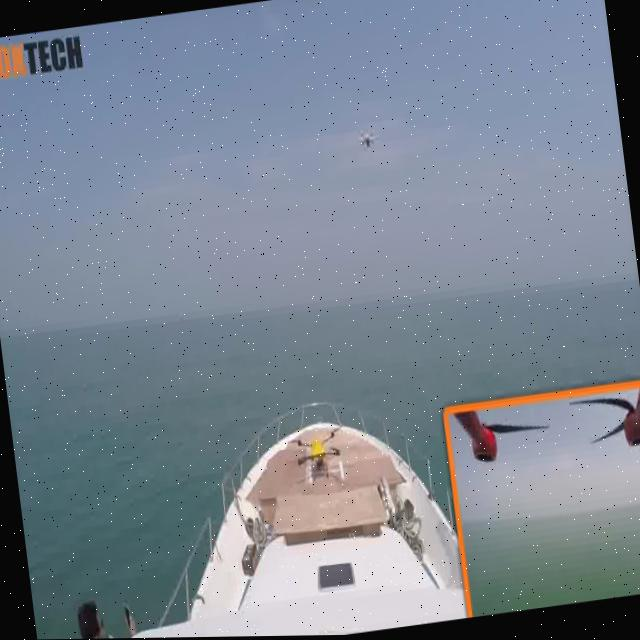drone: (280, 408, 353, 495), (345, 111, 386, 159)
